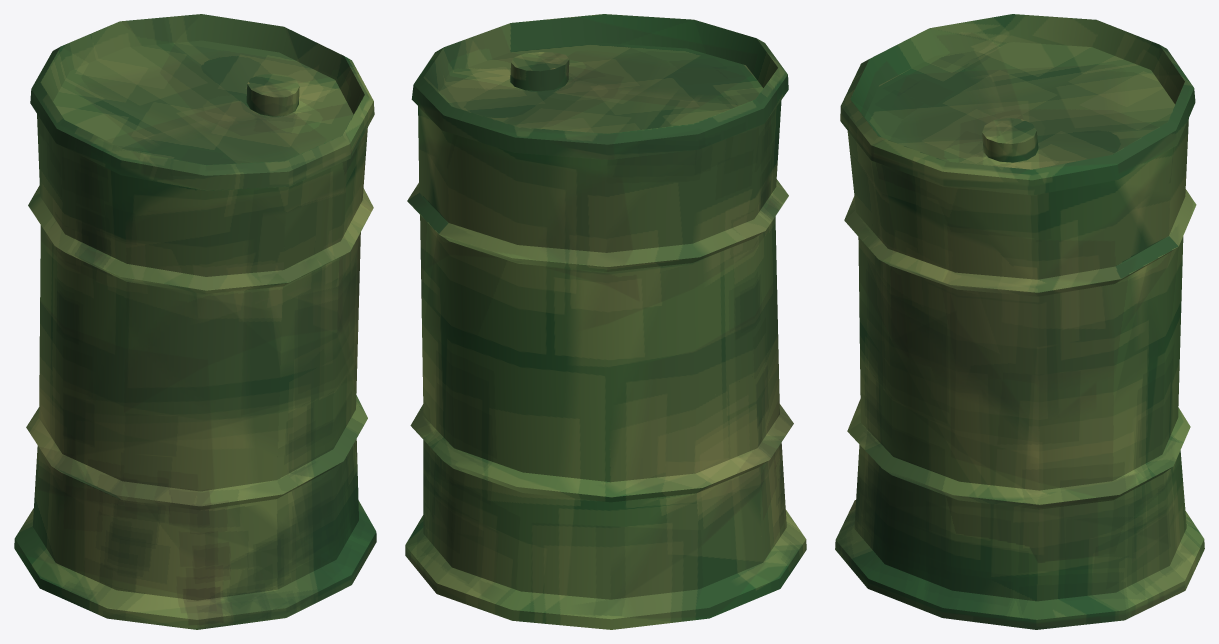
Rendered from Barrel.fbx.
The picture shows the model from 3 angles, left to right: view 1: azimuth 30°, elevation 25°; view 2: azimuth 150°, elevation 25°; view 3: azimuth 270°, elevation 25°; orthographic projection. The views are drawn at different scales.
Visible parts, largest first — view 1: Cylinder; view 2: Cylinder; view 3: Cylinder.
Boxes of the visible parts, box(x1,y1,x2,y2) form: Cylinder: box(14, 14, 376, 629); Cylinder: box(405, 14, 806, 629); Cylinder: box(835, 14, 1204, 629).
Bounding box in the file's own units: 139 × 192 × 136.
